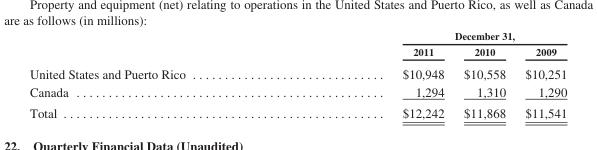table: (28, 29, 566, 119)
table column: (28, 29, 293, 119), (293, 29, 453, 119), (453, 29, 514, 119), (514, 29, 566, 119)
table column header: (28, 29, 566, 61)
table row: (28, 61, 566, 82), (28, 82, 566, 101), (28, 43, 566, 61), (28, 101, 566, 119), (28, 29, 566, 43)
table spanning cell: (293, 29, 566, 43)
